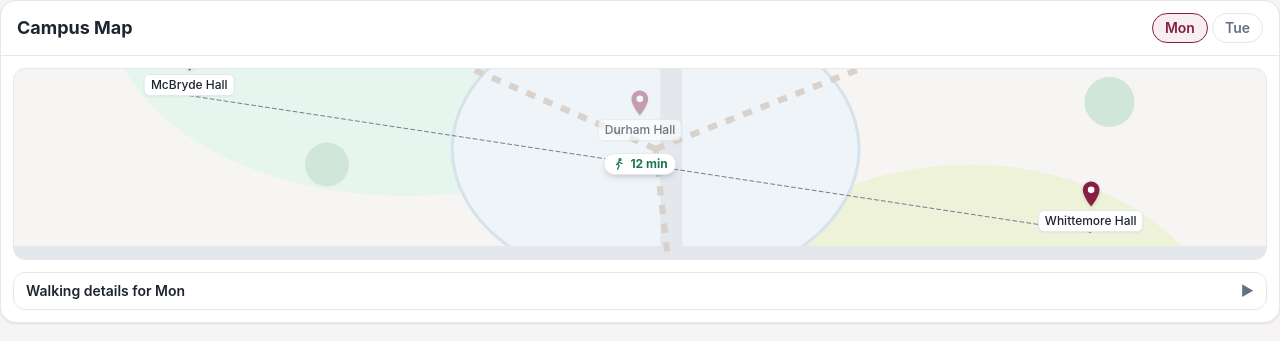
Test: CampusMap › only offers weekdays that have a walk, and switches the chips when one is chosen
Expected: the button with aria-label "CS 3114 to CS 2505" is shown, [603,153,677,175]
Click the button "Tue" at {"x": 1237, "y": 28}, box [1212,13,1263,43]
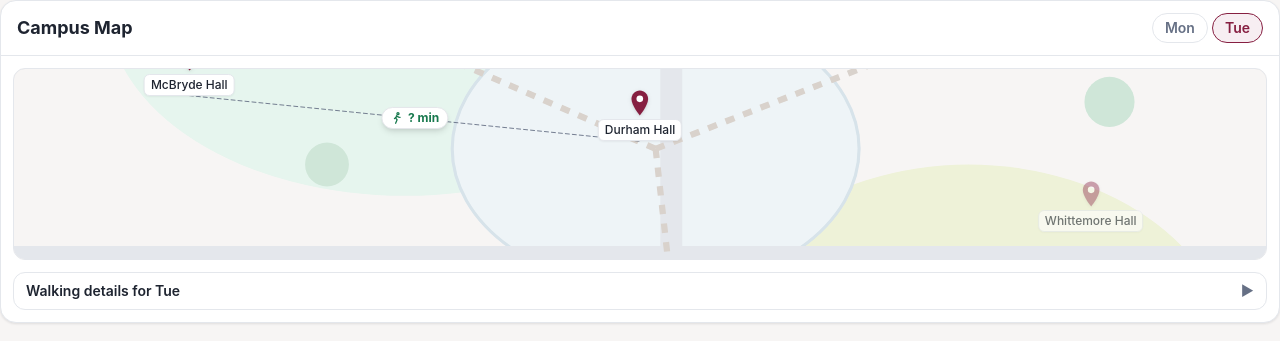
Expected: the button with aria-label "MATH 2534 to PHYS 2305" is shown, [381,107,448,129]
